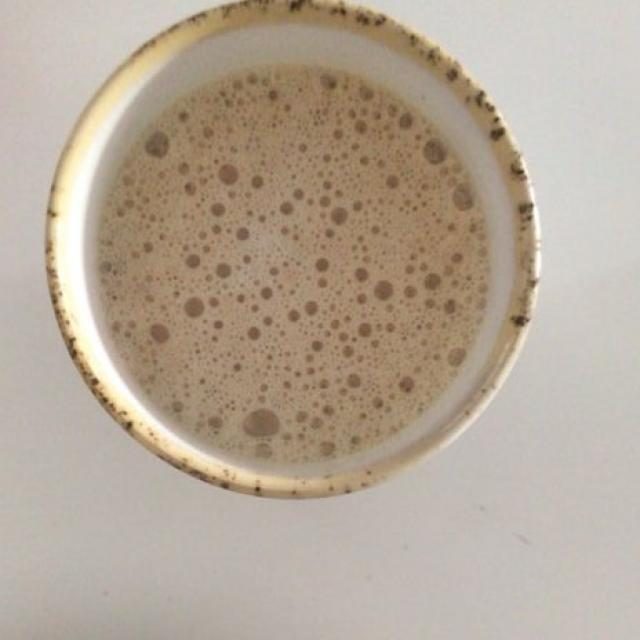coffee: (96, 30, 496, 461)
